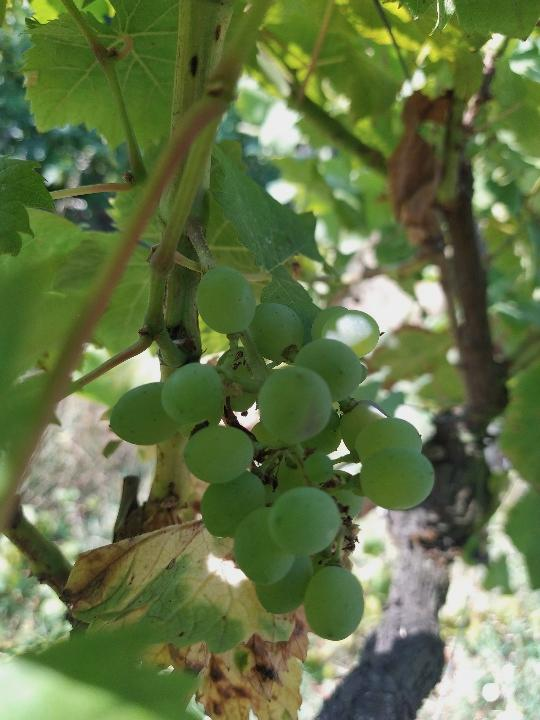grape: (106, 264, 440, 643)
